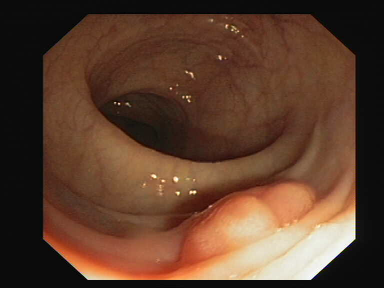polyp: (160, 163, 333, 260)
